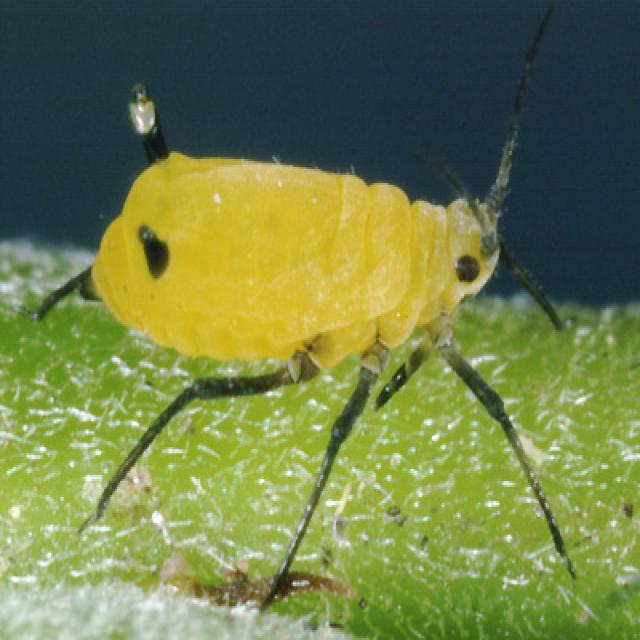Aphid-Grown-: (45, 68, 622, 536)
